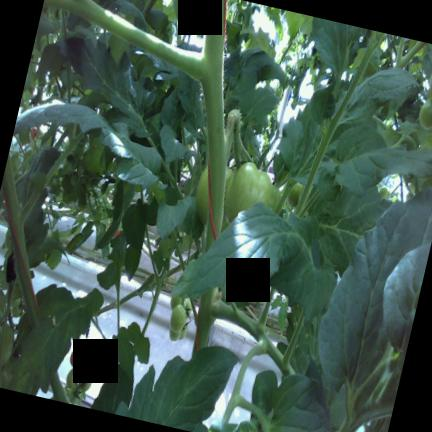6kp_peduncle: (206, 96, 241, 202)
6kp_petiole: (138, 0, 227, 153), (192, 286, 257, 357), (5, 187, 41, 267)
MainStem: (4, 152, 41, 328), (205, 0, 226, 252), (192, 287, 218, 356)
tomato: (225, 162, 271, 222), (196, 166, 233, 224), (0, 325, 14, 365), (170, 304, 186, 332), (419, 97, 432, 130), (286, 182, 303, 207), (267, 185, 281, 211), (82, 352, 97, 374), (70, 346, 84, 367), (66, 367, 79, 389), (67, 385, 82, 404), (79, 373, 93, 391), (11, 298, 24, 317), (275, 84, 283, 98), (77, 163, 84, 176), (299, 184, 304, 199)
